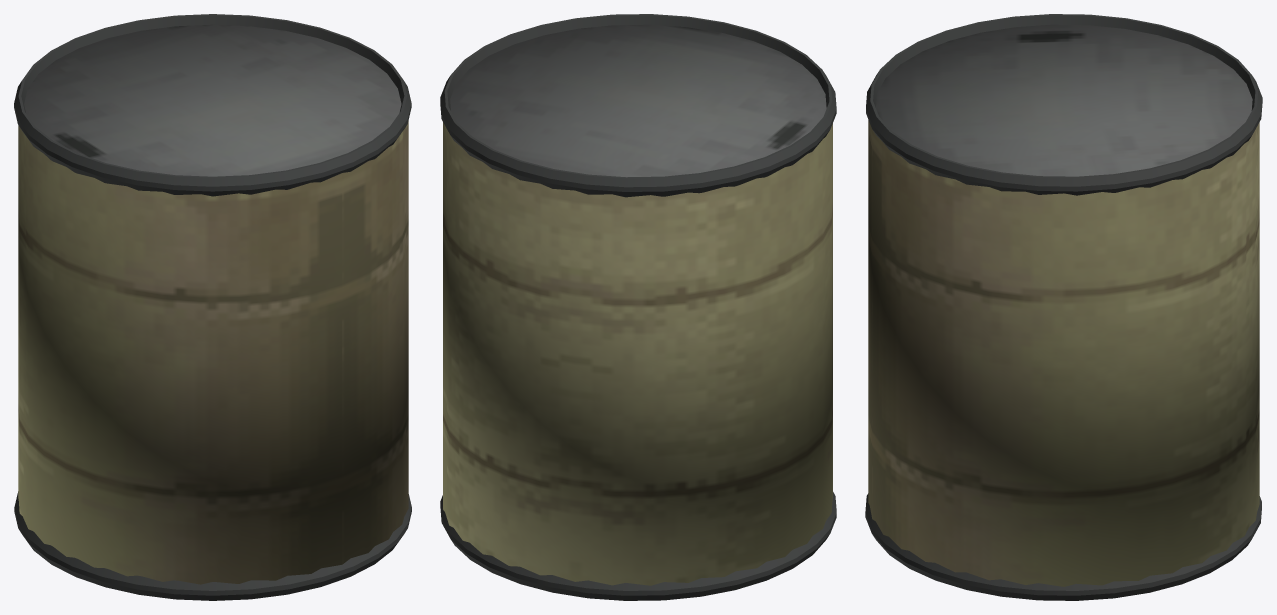
File: W_Barrel.fbx
3 views of the same model, side by side, from view 1: azimuth 30°, elevation 25°; view 2: azimuth 150°, elevation 25°; view 3: azimuth 270°, elevation 25° (orthographic).
Visible parts, largest first — view 1: Cylinder; view 2: Cylinder; view 3: Cylinder.
Part boxes in pixels (<box>): Cylinder: <box>14,14,411,600</box>; Cylinder: <box>440,14,836,600</box>; Cylinder: <box>865,14,1262,600</box>.
Size of the model in its own units: 0.4884 by 0.5752 by 0.4888.
